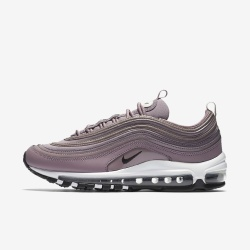nike: (120, 148, 144, 165)
